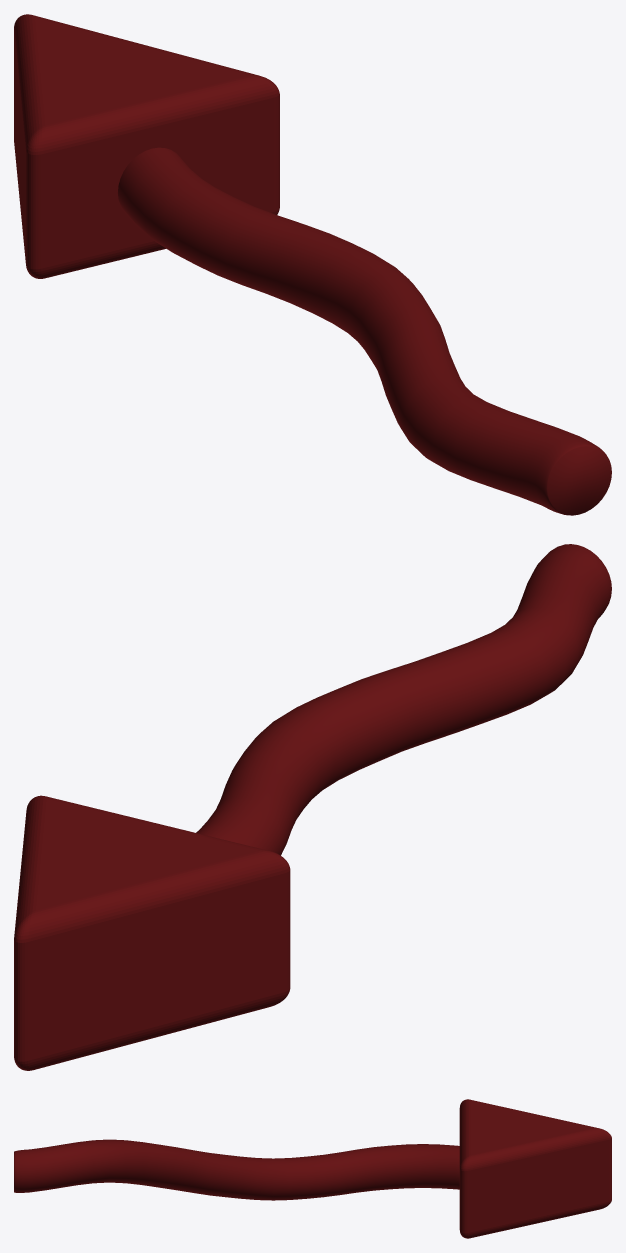
The model's file is Arrow.fbx.
3 views of the same model, one above another, from view 1: azimuth 30°, elevation 25°; view 2: azimuth 150°, elevation 25°; view 3: azimuth 270°, elevation 25° (orthographic). The views are drawn at different scales.
Visible parts, largest first — view 1: Cylinder, Cube; view 2: Cube, Cylinder; view 3: Cylinder, Cube.
Boxes of the visible parts, box(x1,y1,x2,y2) form: Cylinder: box(118, 147, 611, 515); Cube: box(14, 14, 279, 278); Cube: box(14, 795, 290, 1070); Cylinder: box(196, 544, 611, 855); Cylinder: box(14, 1139, 459, 1200); Cube: box(459, 1099, 611, 1238).
Bounding box in the file's own units: 349 × 200 × 1326.
